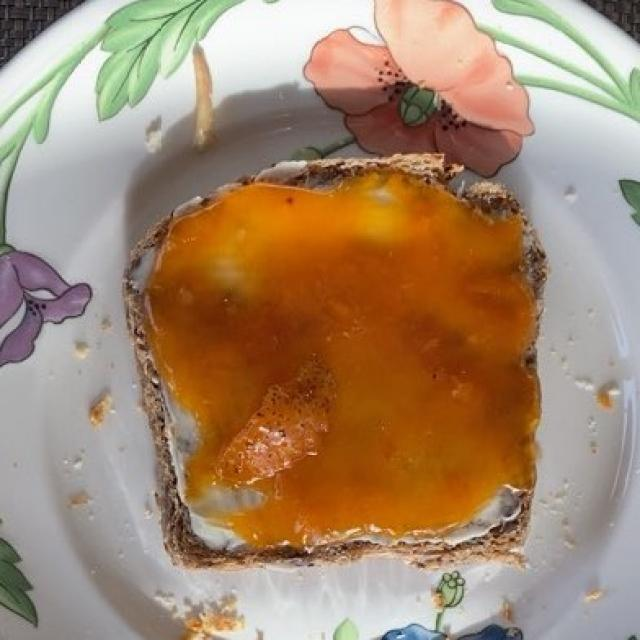bread: (138, 163, 538, 557)
jam: (157, 190, 544, 548)
